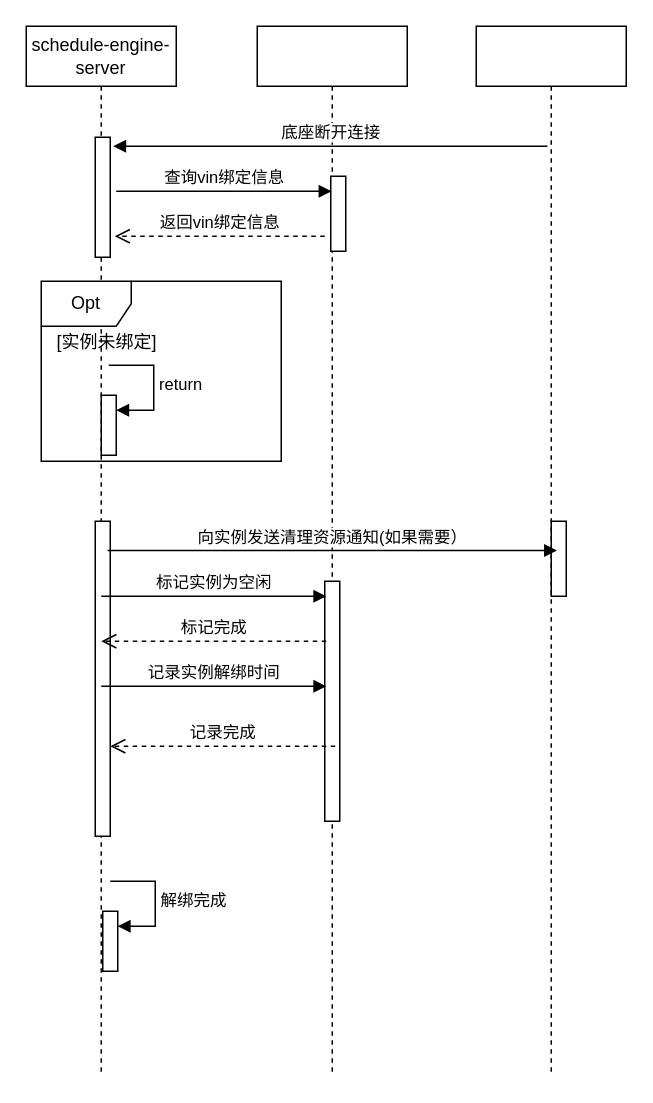
The diagram is 653 pixels wide and 1103 high, and some of its shapes have lost their labels. Each missing label, with the centre of its shape:
"NXMQ" belongs at (x=550, y=550).
"rds" belongs at (x=331, y=550).
